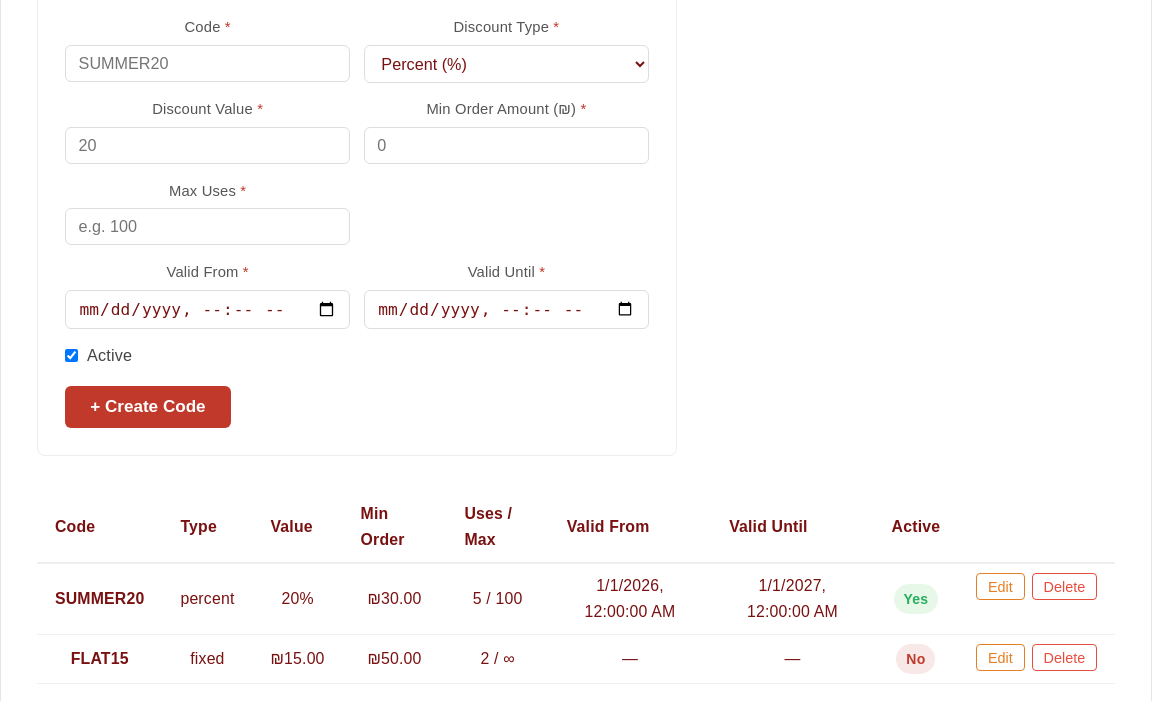
Test case: OwnerPromoCodes › Cancel button in edit mode resets form to add mode
(page scrolled)
Check: the text "SUMMER20" is shown, box [55,590,144,607]
Click the button "Edit" in the row of "SUMMER20" at (1000, 587), box [976,573,1025,600]
(page scrolled)
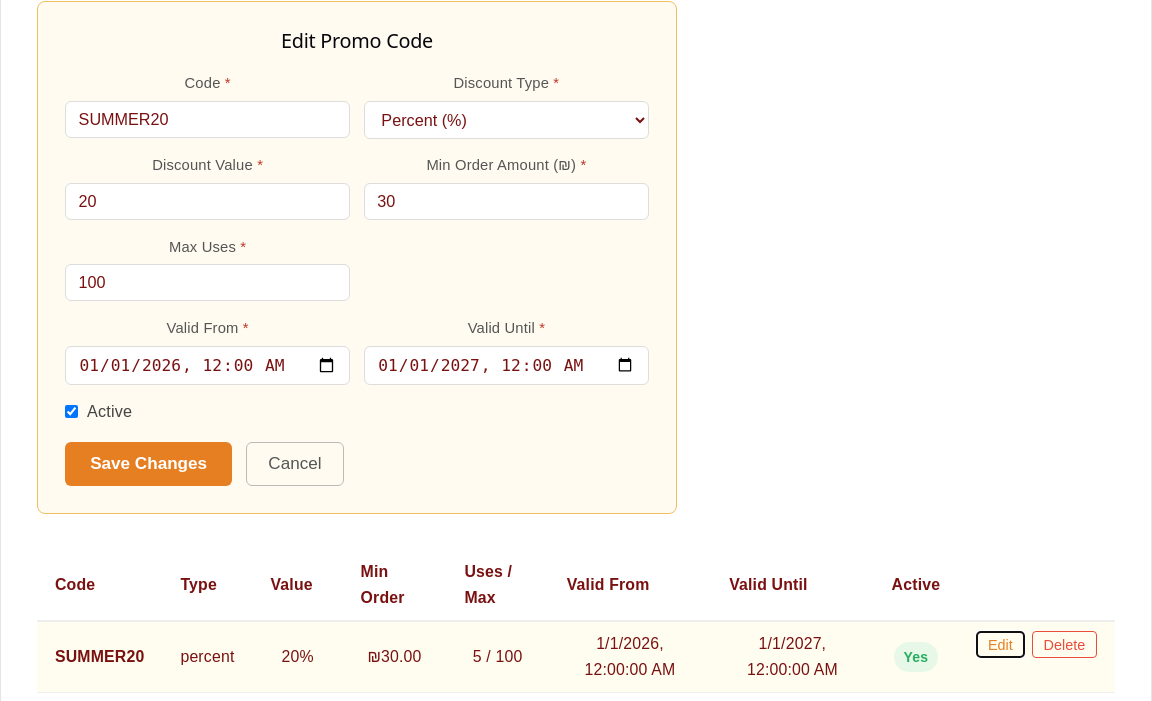
Check: the heading "Edit Promo Code" is shown, box [281,27,433,54]
Click the button "Cancel" at (295, 464), box [246,442,344,486]
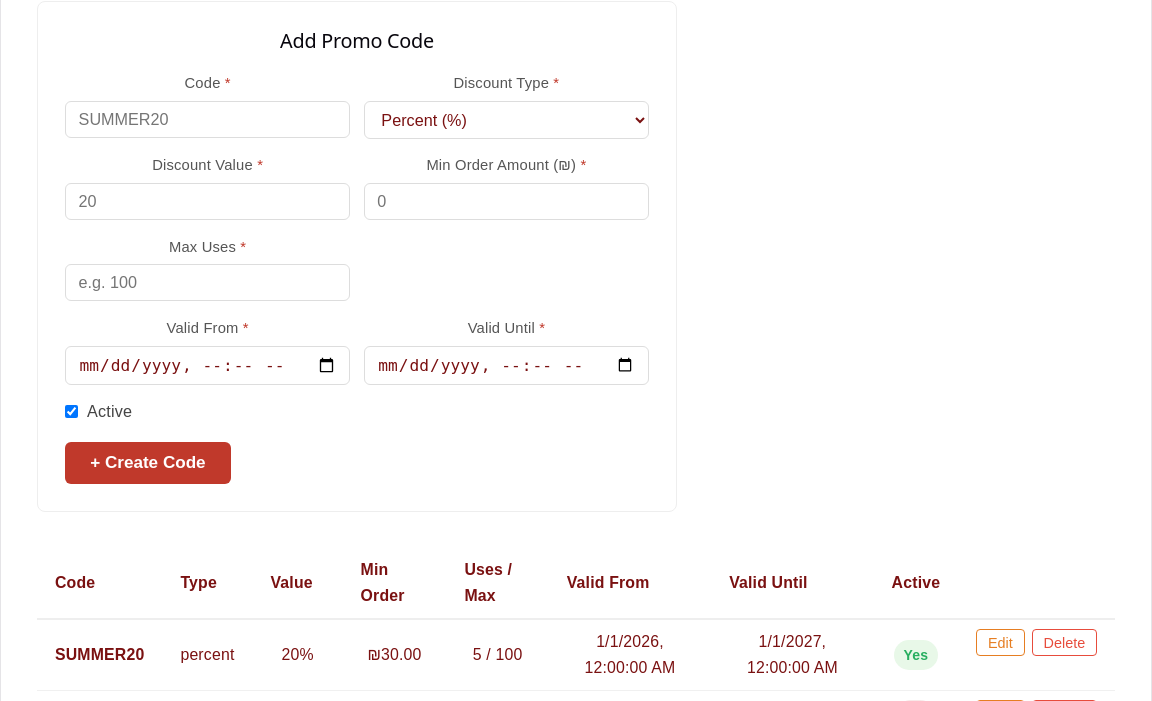
Check: the heading "Add Promo Code" is shown, box [280,27,434,54]
